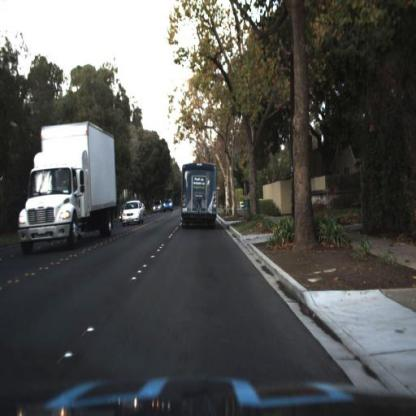car: (19, 122, 119, 256), (122, 200, 149, 225), (163, 195, 176, 216), (152, 200, 164, 217), (163, 198, 175, 213)
truck: (17, 119, 120, 252), (180, 162, 220, 235)
